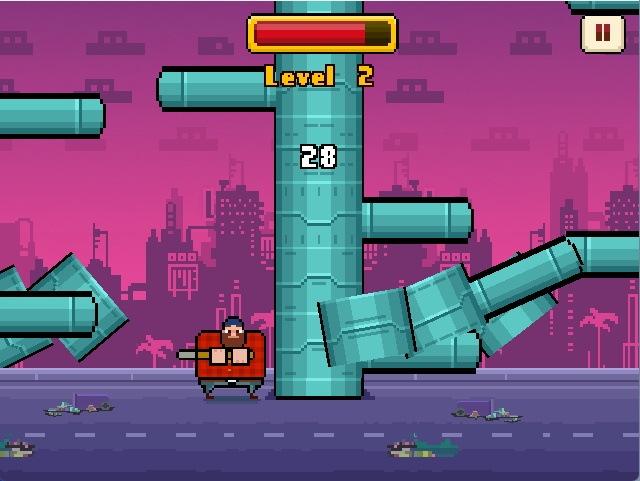left_obs: (150, 62, 281, 117)
right_obs: (356, 192, 476, 248)
timberman: (174, 308, 273, 405)
